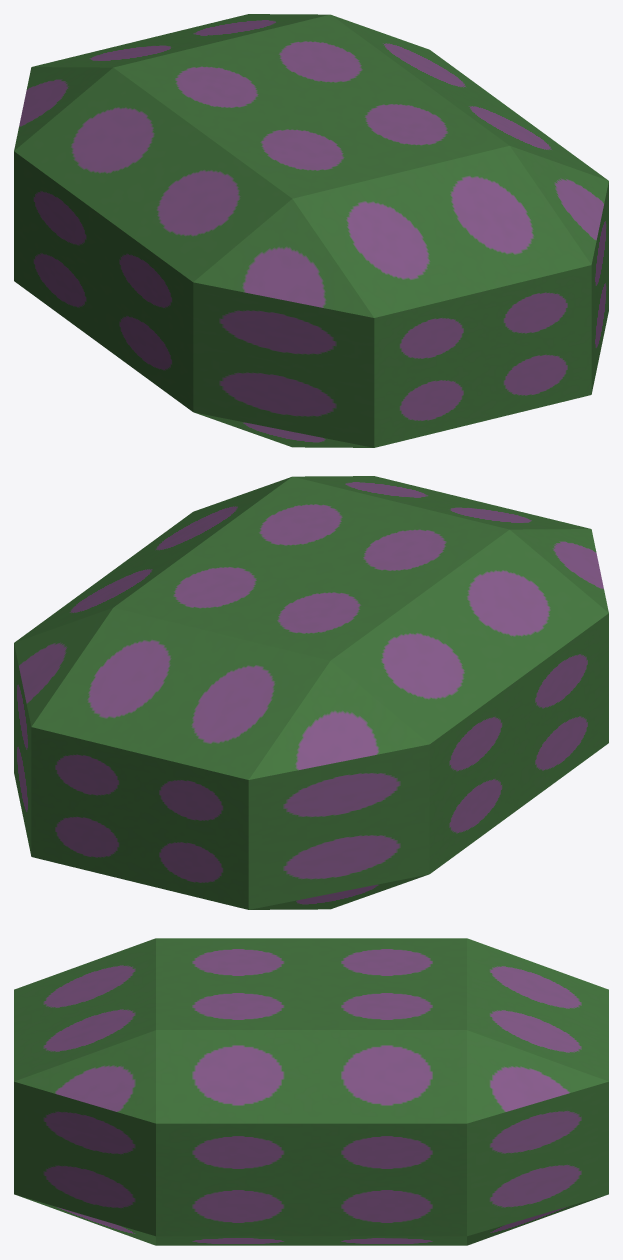
3 views of the same model, one above another, from view 1: azimuth 30°, elevation 25°; view 2: azimuth 150°, elevation 25°; view 3: azimuth 270°, elevation 25° (orthographic). The views are drawn at different scales.
Visible parts, largest first — view 1: geometry_0; view 2: geometry_0; view 3: geometry_0.
Boxes of the visible parts, x1,y1,x2,y2 form: geometry_0: (14, 14, 608, 447); geometry_0: (14, 476, 608, 909); geometry_0: (14, 938, 608, 1245).
Size of the model in its own units: 1.39 by 0.7957 by 1.99.
1 material, 1 textured.
